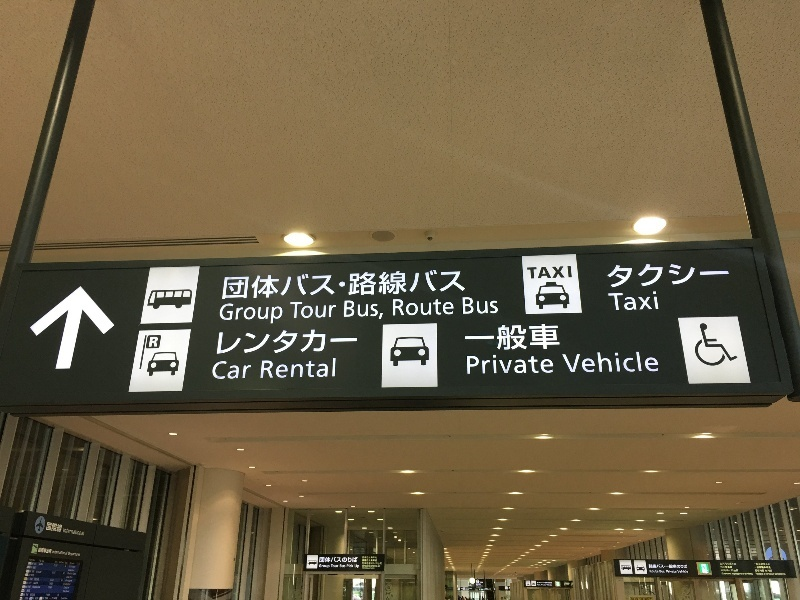text: (33, 559, 48, 600), (49, 559, 64, 600), (65, 559, 80, 600), (465, 320, 480, 353), (481, 320, 496, 353), (497, 320, 512, 353), (513, 320, 528, 353), (529, 320, 544, 353), (545, 320, 560, 353), (225, 327, 240, 359), (241, 327, 256, 359), (257, 327, 272, 359), (273, 327, 288, 359), (289, 327, 304, 359), (305, 327, 320, 359), (321, 327, 336, 359), (337, 327, 352, 359), (609, 262, 624, 292), (625, 262, 640, 292), (641, 262, 656, 292), (657, 262, 672, 292), (673, 262, 688, 292), (689, 262, 704, 292), (705, 262, 720, 292), (225, 273, 240, 302), (241, 273, 256, 302), (257, 273, 272, 302), (273, 273, 288, 302), (289, 273, 304, 302), (305, 273, 320, 302), (321, 273, 336, 302), (353, 268, 368, 296), (369, 268, 384, 296), (385, 268, 400, 296), (401, 268, 416, 296), (417, 268, 432, 296), (433, 268, 448, 296), (449, 268, 464, 296), (561, 349, 576, 376), (577, 349, 592, 376), (593, 349, 608, 376), (609, 349, 624, 376), (625, 349, 640, 376), (641, 349, 656, 376), (609, 289, 624, 314), (625, 289, 640, 314), (641, 289, 656, 314), (225, 302, 240, 327), (241, 302, 256, 327), (257, 302, 272, 327), (721, 262, 733, 292), (465, 354, 480, 377), (481, 354, 496, 377), (497, 354, 512, 377), (513, 354, 528, 377), (529, 354, 544, 377), (305, 299, 320, 322), (321, 299, 336, 322), (353, 299, 368, 322), (369, 299, 384, 322), (225, 360, 240, 382), (273, 357, 288, 379), (289, 357, 304, 379), (305, 357, 320, 379), (321, 357, 336, 379), (290, 299, 304, 322), (337, 273, 348, 302), (465, 296, 480, 317), (481, 296, 496, 317), (401, 298, 416, 318), (417, 298, 432, 318), (433, 298, 448, 318), (273, 302, 284, 327), (241, 360, 253, 382), (260, 357, 272, 379), (216, 327, 224, 359), (545, 354, 556, 377), (213, 360, 224, 382), (529, 265, 544, 281), (545, 265, 560, 281), (561, 265, 574, 281), (343, 299, 352, 322), (353, 327, 359, 359), (49, 521, 63, 534), (391, 298, 400, 318), (149, 337, 160, 351), (657, 289, 663, 314), (218, 302, 224, 327), (65, 527, 80, 536), (29, 559, 32, 600), (449, 298, 455, 318), (657, 349, 661, 376), (321, 557, 336, 563), (337, 557, 352, 563), (349, 268, 352, 296), (657, 564, 672, 569), (673, 564, 688, 569), (39, 547, 48, 555), (68, 552, 80, 558), (53, 550, 64, 556), (721, 562, 737, 566), (461, 296, 464, 317), (606, 262, 608, 292), (340, 564, 352, 569), (753, 562, 768, 566), (354, 565, 368, 569), (659, 570, 672, 574), (606, 289, 608, 314), (81, 527, 86, 536), (721, 566, 736, 569), (721, 572, 736, 575), (337, 357, 339, 379), (677, 570, 688, 574), (497, 296, 499, 317), (754, 566, 768, 569), (648, 564, 656, 569), (755, 569, 768, 572), (755, 573, 768, 576), (321, 565, 330, 569), (369, 556, 378, 560), (561, 320, 562, 353), (526, 265, 528, 281), (744, 572, 752, 576), (369, 559, 377, 563), (545, 582, 553, 586), (353, 557, 358, 563), (721, 569, 736, 571), (223, 273, 224, 302), (465, 268, 466, 296), (649, 570, 656, 574), (537, 582, 544, 586), (775, 573, 784, 576), (371, 568, 384, 570), (331, 564, 336, 569), (49, 547, 52, 555), (666, 570, 672, 574), (362, 556, 368, 560), (362, 559, 368, 563), (362, 562, 368, 566), (369, 562, 375, 566), (376, 563, 384, 566), (369, 565, 377, 568), (337, 299, 338, 322), (737, 572, 744, 575), (347, 564, 352, 568), (65, 550, 68, 556), (769, 573, 775, 576), (362, 565, 368, 568), (673, 570, 677, 574), (731, 569, 736, 572), (47, 521, 48, 534), (732, 572, 736, 575), (769, 569, 773, 572), (378, 566, 384, 568), (362, 568, 368, 570), (337, 564, 339, 569), (769, 566, 772, 569), (765, 569, 768, 572), (657, 570, 659, 574), (769, 562, 771, 566), (319, 557, 320, 563), (737, 569, 739, 572), (766, 573, 768, 576), (319, 565, 320, 569), (353, 564, 354, 568), (785, 573, 786, 576), (369, 568, 370, 570)
